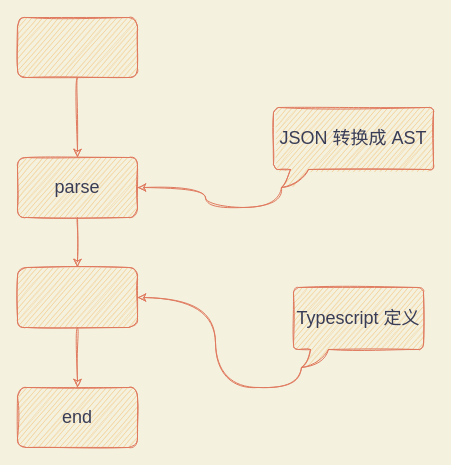
The diagram is 451 pixels wide and 465 high, and some of its shapes have lost their labels. The shapes that lost their labels are listed below. From the top down, each one's centre as x and y in pixels, then its label:
At (77,47): "start".
At (77,297): "generate".
